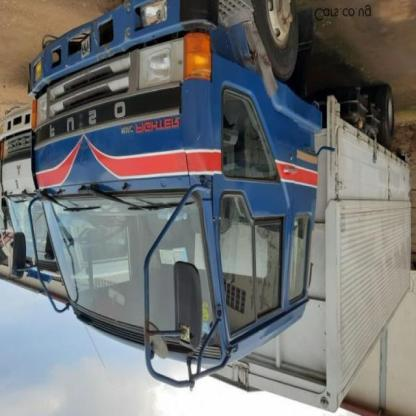truck: (14, 2, 411, 415)
